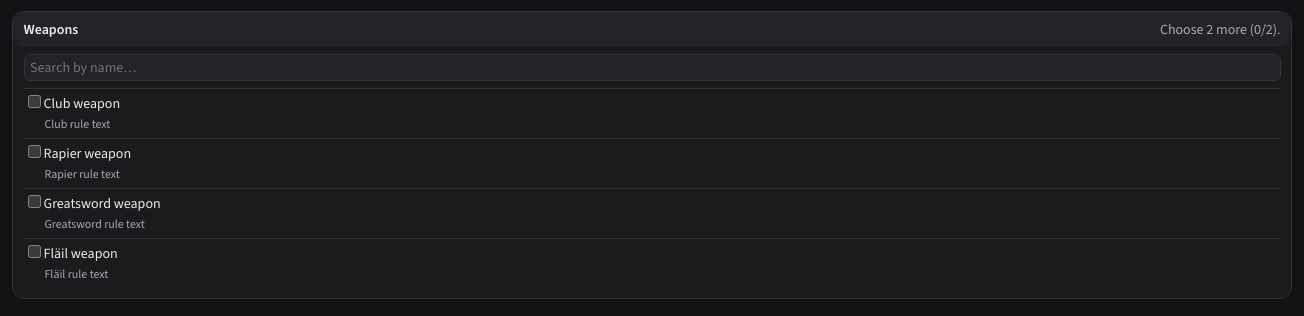
it: SearchableOptionList › shows the required/chosen count in the player’s words, and updates it on toggle
Expected: the button "Weapons Choose 2 more (0/2)." is shown, top-left (13, 12), bottom-right (1291, 46)
Click the checkbox labelled "Club weapon".
click(34, 102)  # box top-left (28, 95), bottom-right (40, 108)
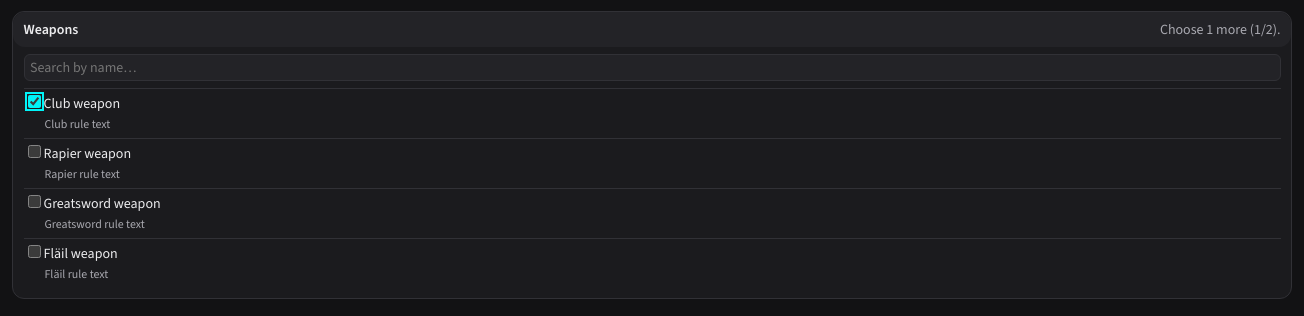
Result: the button "Weapons Choose 1 more (1/2)." is shown at top-left (13, 12), bottom-right (1291, 46)
Click the checkbox labelled "Rapier weapon".
click(34, 152)  # box top-left (28, 145), bottom-right (40, 158)
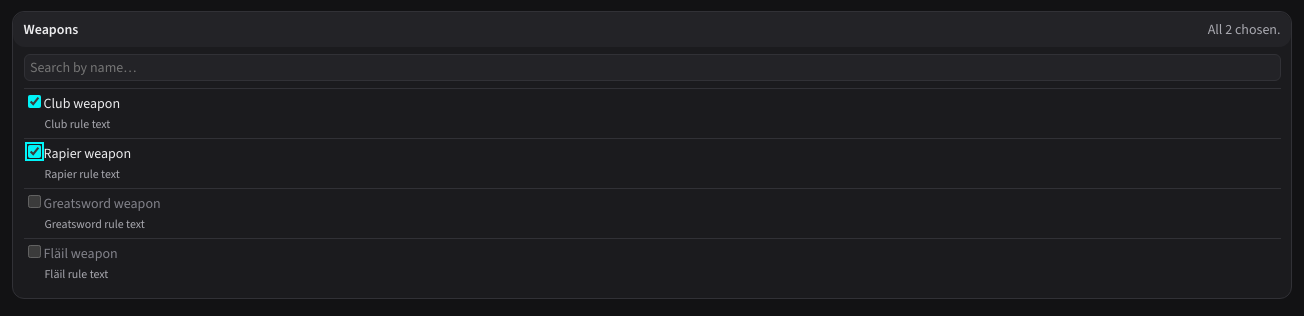
Result: the button "Weapons All 2 chosen." is shown at top-left (13, 12), bottom-right (1291, 46)
